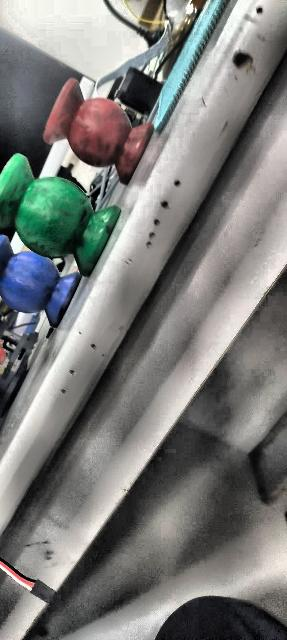blue: (0, 235, 73, 329)
green: (0, 151, 118, 286)
red: (44, 77, 154, 182)
